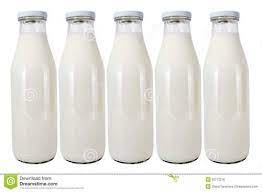milk: (198, 9, 262, 168), (148, 3, 204, 165), (7, 7, 57, 165), (103, 9, 154, 162), (58, 14, 107, 167)
